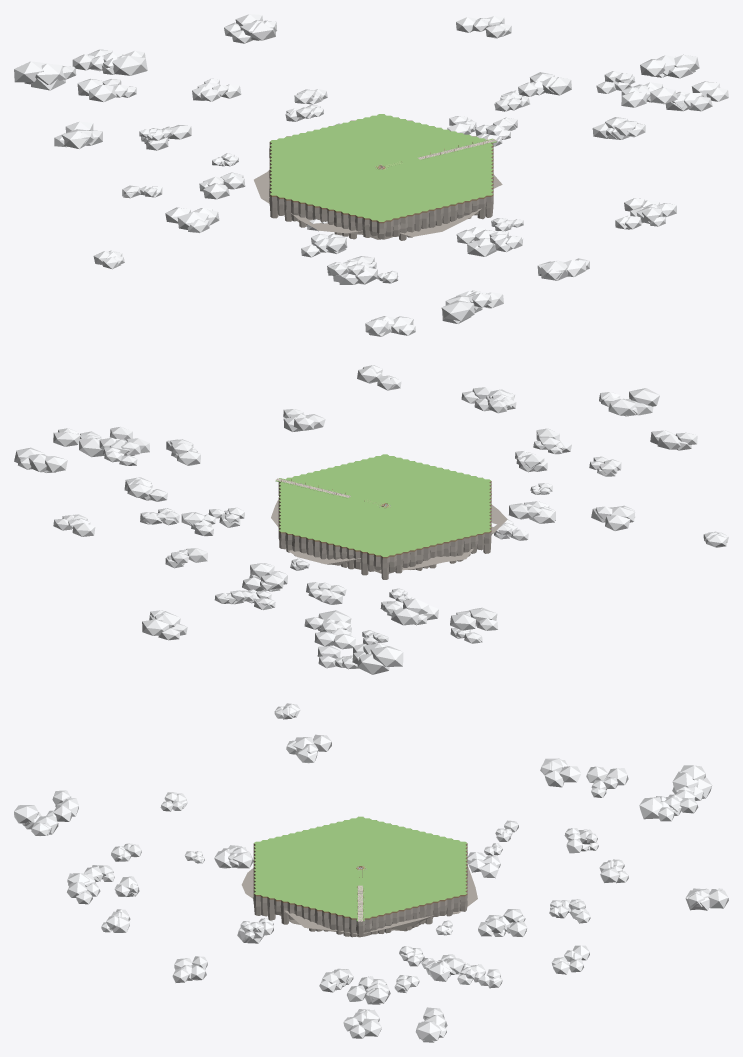
Rendered from PTF_ArtPass.fbx.
3 renders of one model, top to bottom at view 1: azimuth 30°, elevation 25°; view 2: azimuth 150°, elevation 25°; view 3: azimuth 270°, elevation 25°, orthographic. The views are drawn at different scales.
Parts seen in each view (by area): view 1: Clouds_Far, Island_Top, Clouds_Below, Island_Rock, Island_Dirt; view 2: Clouds_Far, Island_Top, Clouds_Below, Island_Rock, Island_Dirt; view 3: Island_Top, Clouds_Far, Clouds_Below, Island_Rock, Island_Dirt.
Boxes of the visible parts, x1=… form: Clouds_Far: x1=14, y1=14, x2=728, y2=336; Island_Top: x1=270, y1=114, x2=493, y2=221; Clouds_Below: x1=122, y1=89, x2=676, y2=312; Island_Rock: x1=254, y1=143, x2=502, y2=240; Island_Dirt: x1=269, y1=120, x2=493, y2=223; Clouds_Far: x1=14, y1=365, x2=728, y2=674; Island_Top: x1=279, y1=454, x2=491, y2=556; Clouds_Below: x1=140, y1=409, x2=571, y2=669; Island_Rock: x1=271, y1=482, x2=507, y2=579; Island_Dirt: x1=278, y1=481, x2=491, y2=558; Island_Top: x1=254, y1=816, x2=467, y2=919; Clouds_Far: x1=14, y1=703, x2=728, y2=1042; Clouds_Below: x1=84, y1=820, x2=628, y2=988; Island_Rock: x1=241, y1=845, x2=477, y2=937; Island_Dirt: x1=253, y1=843, x2=467, y2=920.
Size of the model in its own units: 2618 by 370 by 2515.
